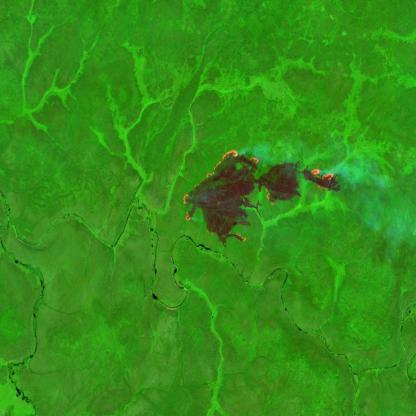fire: (177, 147, 339, 225)
